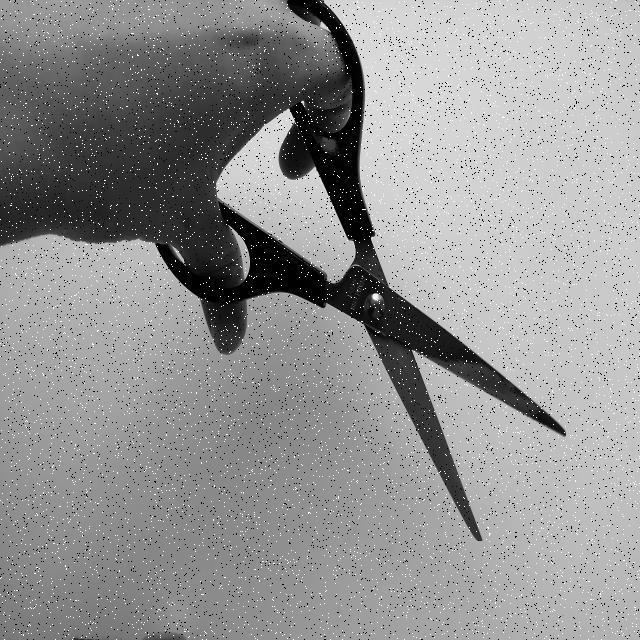scissors: (149, 0, 571, 549)
